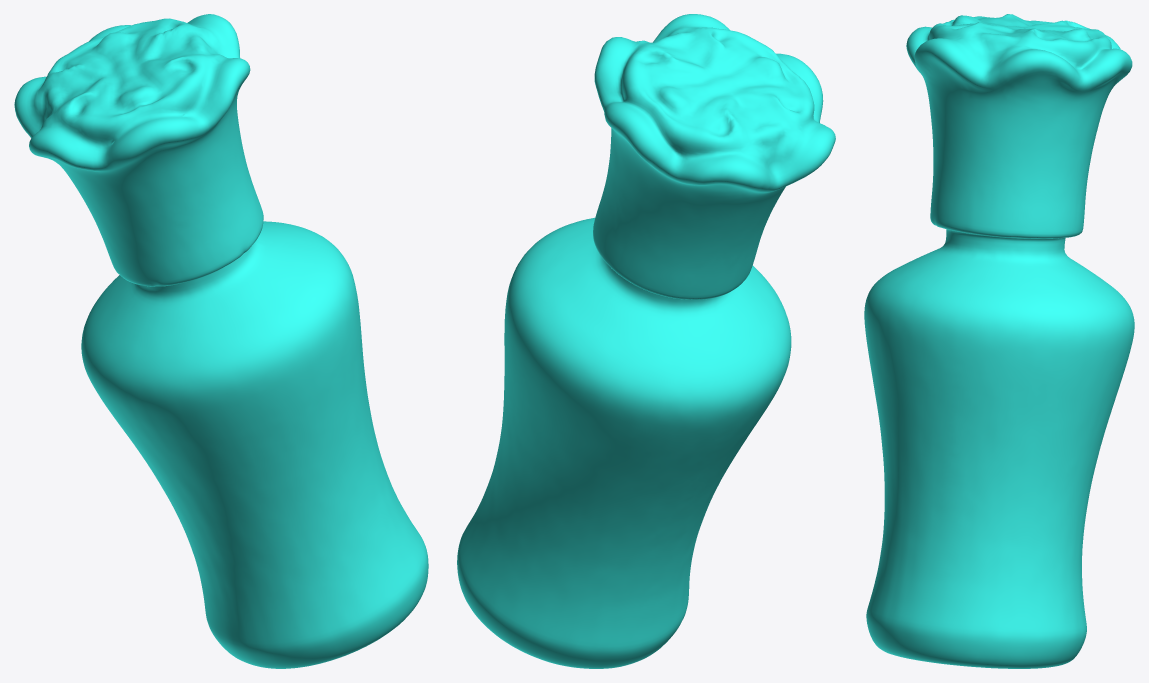
File: cyan_perfume_bottle1.glb
3 renders of one model, left to right at view 1: azimuth 30°, elevation 25°; view 2: azimuth 150°, elevation 25°; view 3: azimuth 270°, elevation 25°, orthographic. The views are drawn at different scales.
Parts seen in each view (by area): view 1: Mesh1_Mesh1.026; view 2: Mesh1_Mesh1.026; view 3: Mesh1_Mesh1.026.
Boxes of the visible parts, x1,y1,x2,y2 form: Mesh1_Mesh1.026: (14,14,428,668); Mesh1_Mesh1.026: (457,14,835,668); Mesh1_Mesh1.026: (864,14,1134,668).
Size of the model in its own units: 1.24 by 2.04 by 0.8388.
